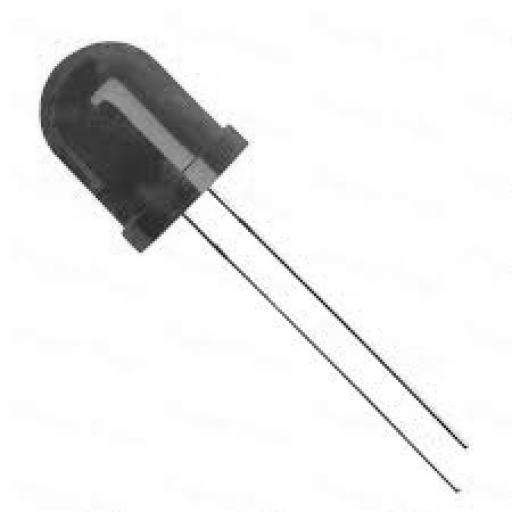LED: (26, 29, 503, 507)
